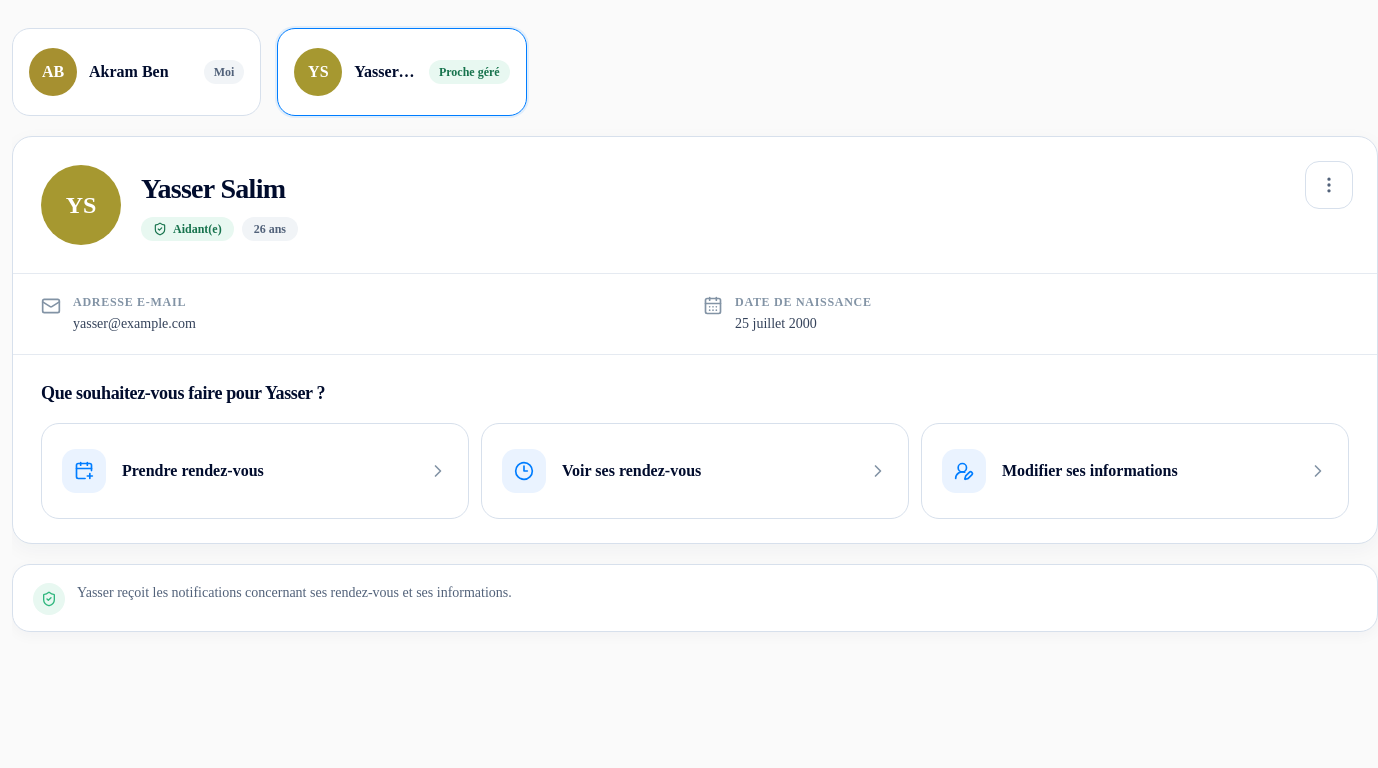
it: ProchesList › permet de sélectionner le profil titulaire
Click the tab "AB Akram Ben Moi": (137, 72) [12, 28, 261, 116]
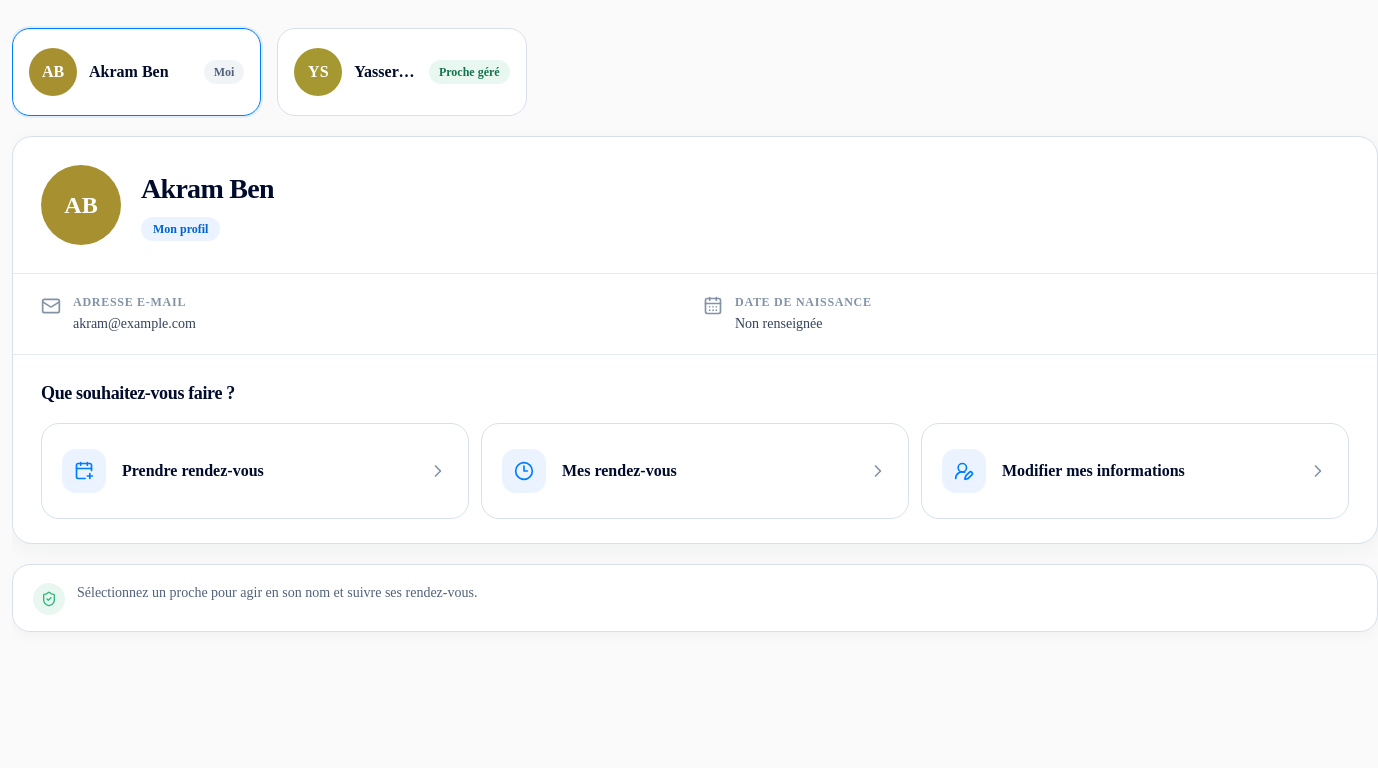
Result: the heading "Akram Ben" is shown at [141, 169, 274, 209]
